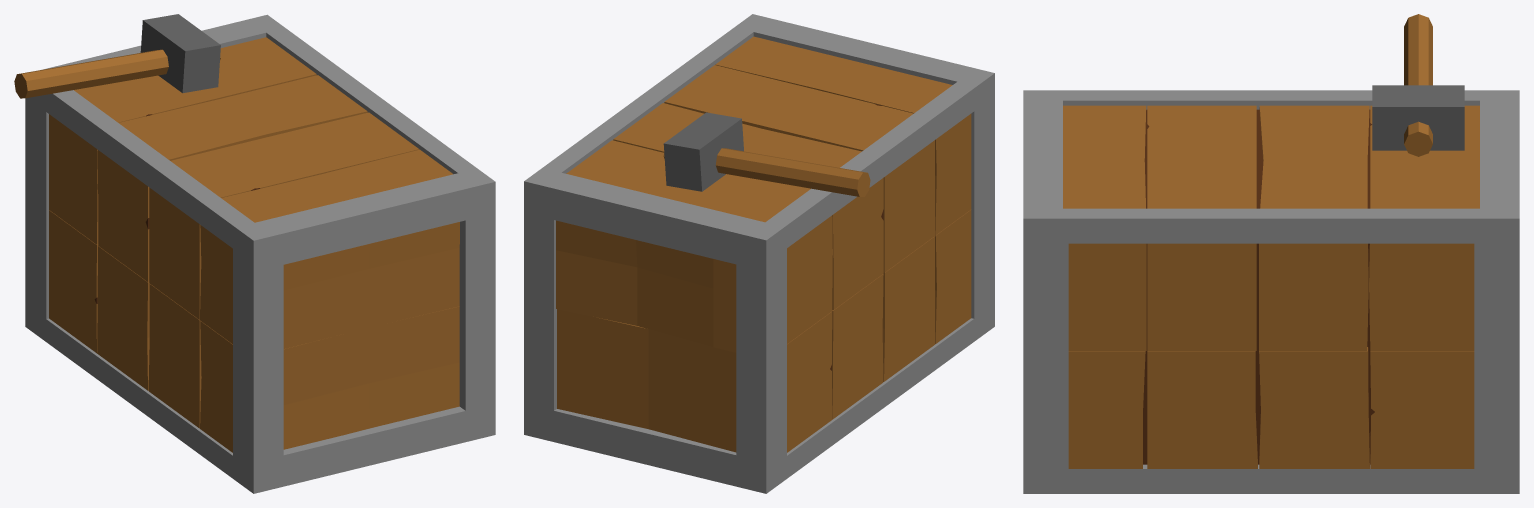
The model's file is fixbox.fbx.
3 views of the same model, side by side, from view 1: azimuth 30°, elevation 25°; view 2: azimuth 150°, elevation 25°; view 3: azimuth 270°, elevation 25° (orthographic). The views are drawn at different scales.
Parts seen in each view (by area): view 1: Fix_Box, Fix_Box_004, Fix_Box_008, Fix_Box_002, Fix_Box_003, Fix_Box_001, Fix_Box_006, Fix_Box_007, Fix_Box_005, hammer_parts_001, hammer_parts_002; view 2: Fix_Box, Fix_Box_001, Fix_Box_005, Fix_Box_003, Fix_Box_004, Fix_Box_002, Fix_Box_007, Fix_Box_006, hammer_parts_001, Fix_Box_008, hammer_parts_002; view 3: Fix_Box, Fix_Box_003, Fix_Box_002, Fix_Box_001, Fix_Box_004, Fix_Box_006, Fix_Box_007, Fix_Box_005, Fix_Box_008, hammer_parts_001, hammer_parts_002.
Part boxes in pixels (left/top/right/bottom): Fix_Box: left=25, top=14, right=495, bottom=493; Fix_Box_004: left=200, top=149, right=459, bottom=348; Fix_Box_008: left=200, top=306, right=459, bottom=452; Fix_Box_002: left=97, top=75, right=367, bottom=282; Fix_Box_003: left=149, top=112, right=419, bottom=319; Fix_Box_001: left=49, top=37, right=316, bottom=244; Fix_Box_006: left=97, top=246, right=149, bottom=390; Fix_Box_007: left=148, top=284, right=201, bottom=428; Fix_Box_005: left=49, top=210, right=98, bottom=353; hammer_parts_001: left=140, top=14, right=220, bottom=93; hammer_parts_002: left=14, top=49, right=220, bottom=98; Fix_Box: left=524, top=14, right=994, bottom=493; Fix_Box_001: left=556, top=140, right=832, bottom=352; Fix_Box_005: left=557, top=309, right=832, bottom=452; Fix_Box_003: left=664, top=65, right=934, bottom=272; Fix_Box_004: left=715, top=36, right=971, bottom=235; Fix_Box_002: left=613, top=103, right=883, bottom=309; Fix_Box_007: left=882, top=236, right=934, bottom=381; Fix_Box_006: left=832, top=274, right=883, bottom=419; hammer_parts_001: left=663, top=112, right=743, bottom=191; Fix_Box_008: left=935, top=210, right=971, bottom=344; hammer_parts_002: left=663, top=148, right=870, bottom=196; Fix_Box: left=1023, top=90, right=1519, bottom=493; Fix_Box_003: left=1147, top=105, right=1256, bottom=350; Fix_Box_002: left=1259, top=105, right=1369, bottom=350; Fix_Box_001: left=1369, top=105, right=1479, bottom=350; Fix_Box_004: left=1063, top=105, right=1146, bottom=350; Fix_Box_006: left=1259, top=347, right=1369, bottom=468; Fix_Box_007: left=1147, top=351, right=1257, bottom=468; Fix_Box_005: left=1370, top=351, right=1474, bottom=468; Fix_Box_008: left=1068, top=351, right=1145, bottom=468; hammer_parts_001: left=1372, top=85, right=1464, bottom=150; hammer_parts_002: left=1404, top=14, right=1432, bottom=156.
Bounding box in the file's own units: 238 × 235 × 321.
